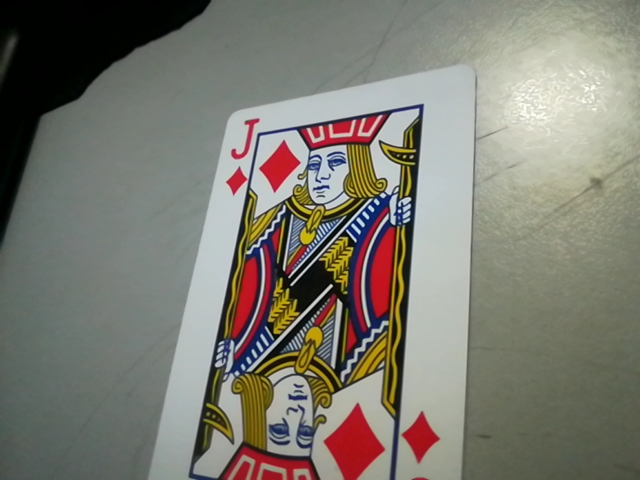fk j: (216, 115, 261, 195)
